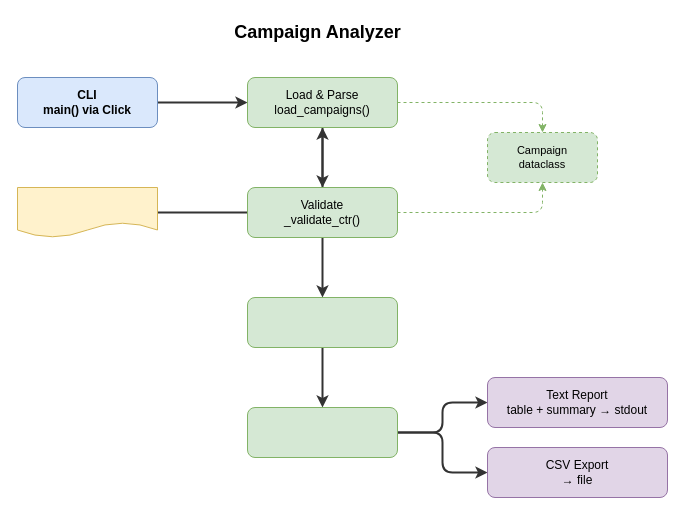
The diagram is 685 pixels wide and 515 high, and some of its shapes have lost their labels. Each missing label, with the box of its shape:
*.csv Files: (16, 186, 158, 238)
Filter by min-spend: (246, 296, 398, 348)
Sort by ROAS (desc): (246, 406, 398, 458)
